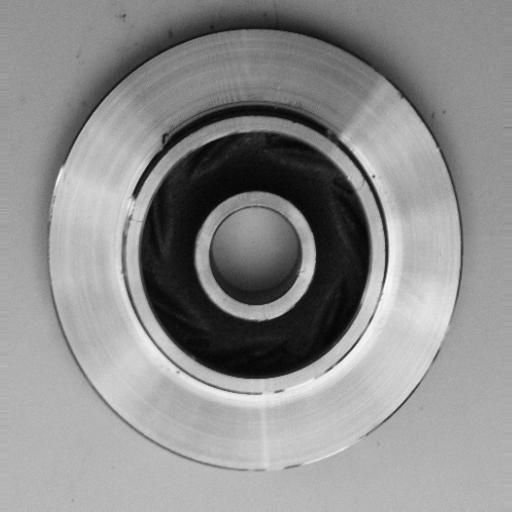crack: (154, 124, 185, 158)
scratch: (253, 369, 333, 407), (117, 194, 141, 252)
unpolished_casting: (45, 23, 464, 475)
